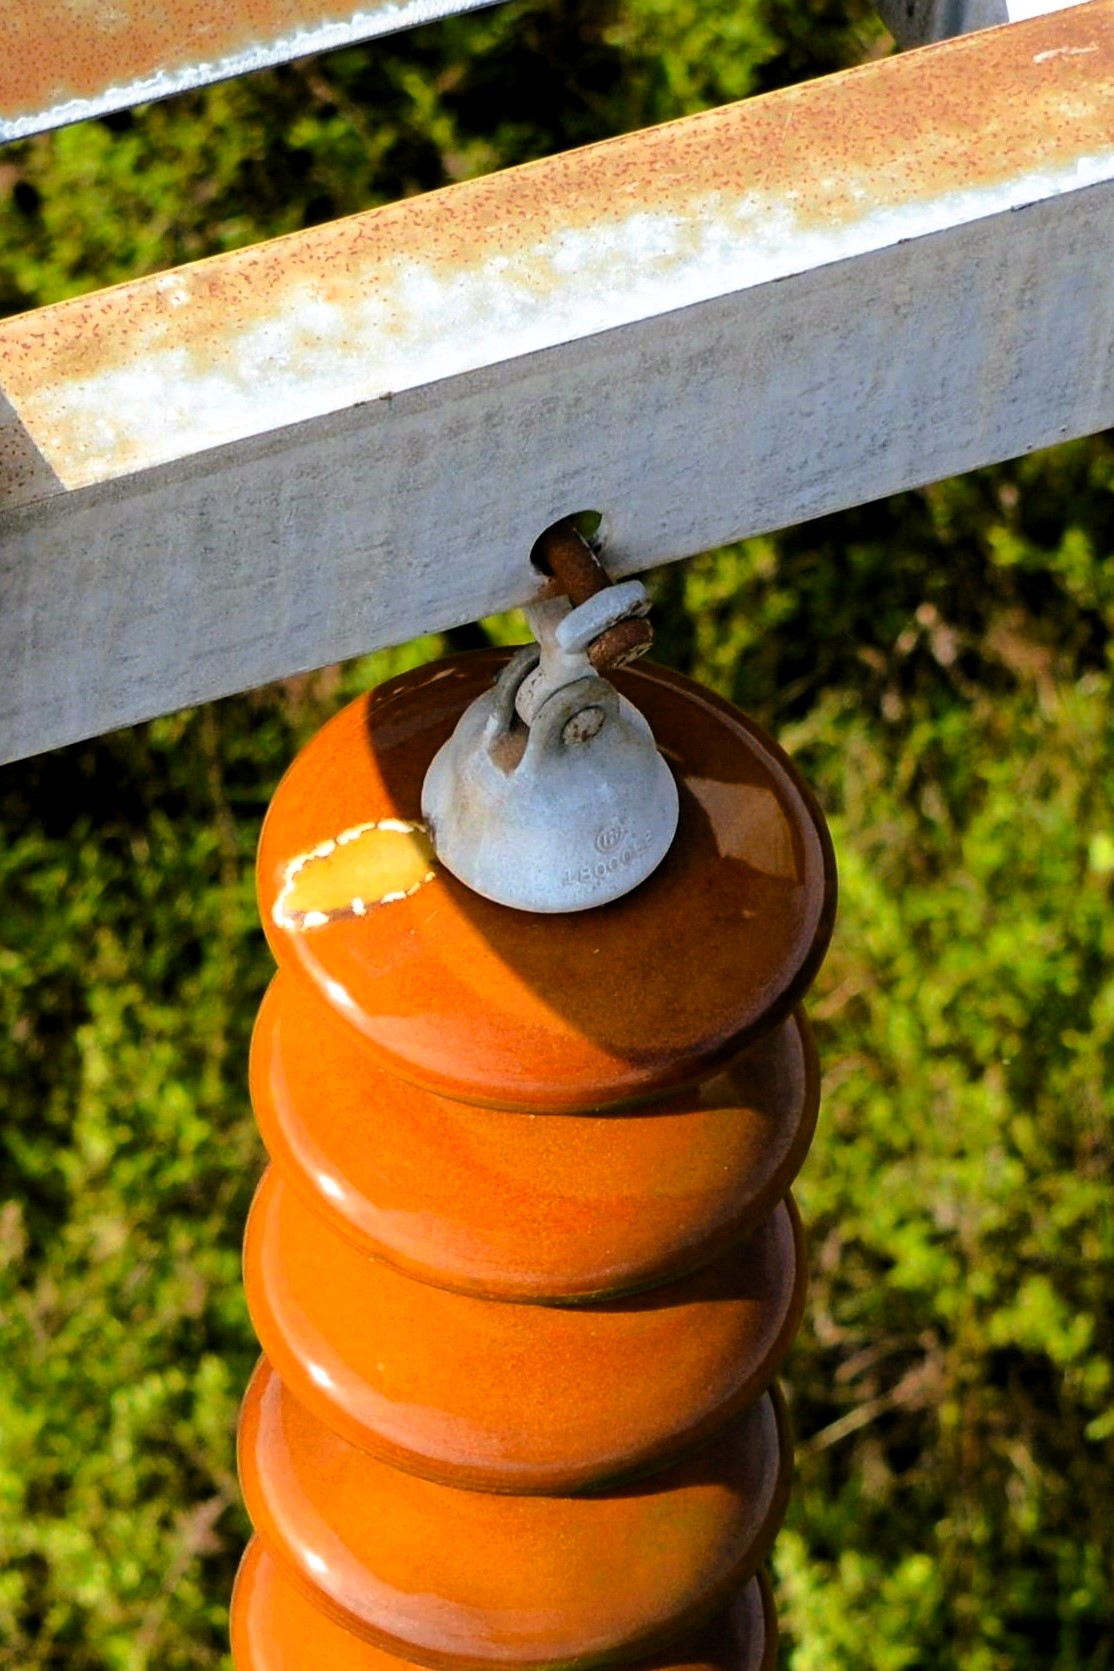Insulator flashover: (246, 632, 844, 1120)
